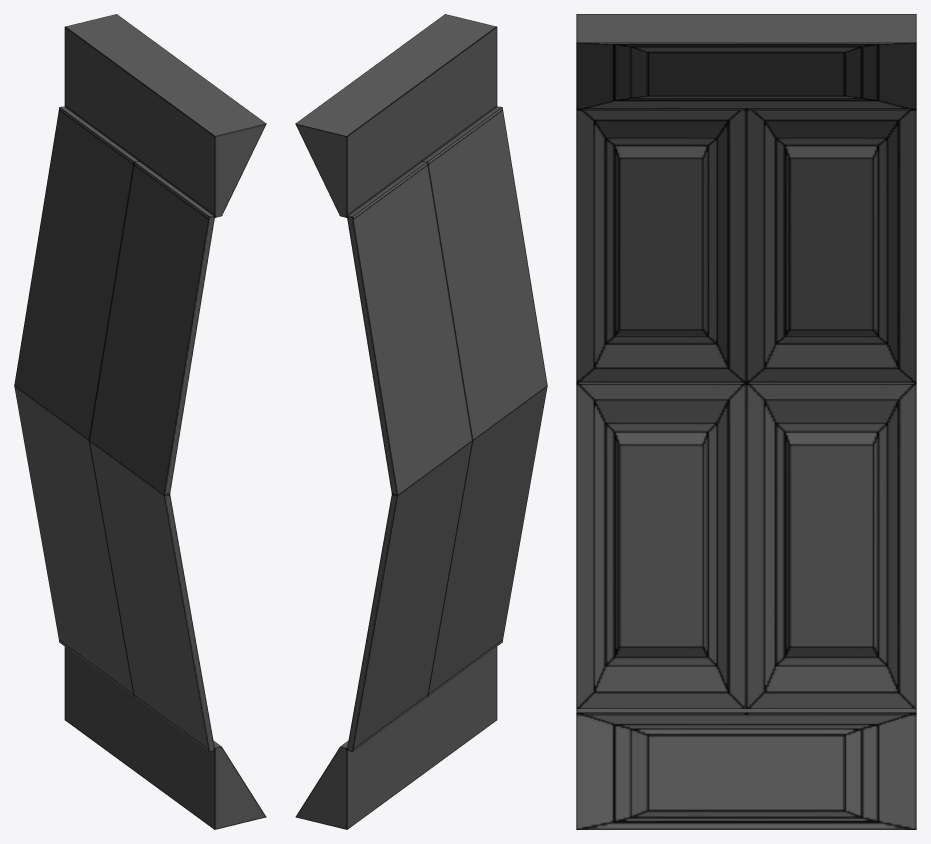
The model's file is Wall Panel.fbx.
3 renders of one model, left to right at view 1: azimuth 30°, elevation 25°; view 2: azimuth 150°, elevation 25°; view 3: azimuth 270°, elevation 25°, orthographic. The views are drawn at different scales.
Parts seen in each view (by area): view 1: Cube.003, Cube.002, Cube.000, Cube.001; view 2: Cube.003, Cube.002, Cube.000, Cube.001; view 3: Cube.002, Cube.003, Cube.001, Cube.000.
Part boxes in pixels (<box>): Cube.003: <box>14,106,214,495</box>; Cube.002: <box>14,386,214,752</box>; Cube.000: <box>64,14,266,217</box>; Cube.001: <box>64,647,266,829</box>; Cube.003: <box>347,106,547,495</box>; Cube.002: <box>347,386,547,752</box>; Cube.000: <box>295,14,497,217</box>; Cube.001: <box>295,647,497,829</box>; Cube.002: <box>576,383,916,708</box>; Cube.003: <box>576,110,916,382</box>; Cube.001: <box>576,708,916,829</box>; Cube.000: <box>576,14,916,110</box>.
Bounding box in the file's own units: 78.86 × 510 × 200.
